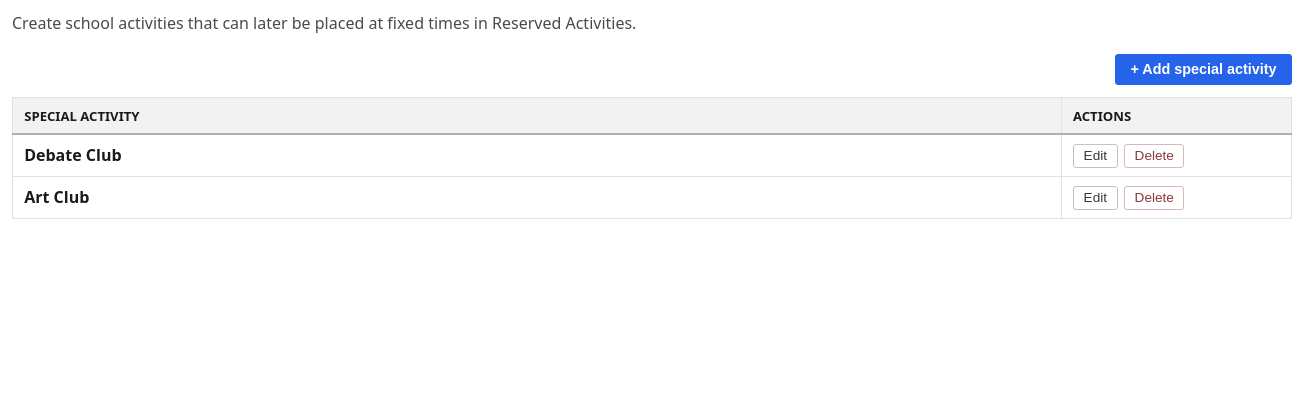
Test case: SpecialActivitiesPanel › sends the exact create request body, then collapses and refetches on success
expect the column heading "Debate Club" is shown: met, box [12,134,1061,177]
Click the button "+ Add special activity".
click(1204, 69)  # box [1115,54,1292,85]
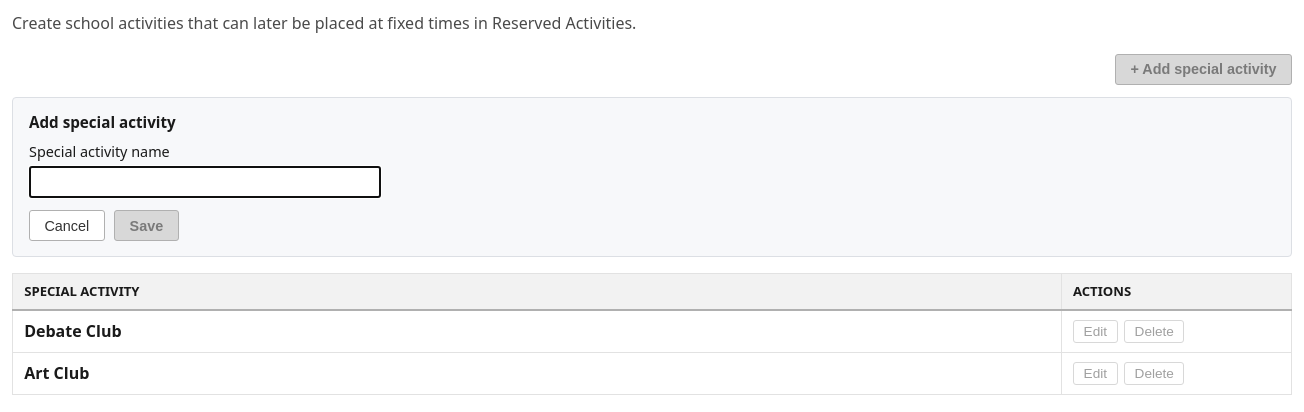
Type "Chess Club" into the field labelled "Special activity name".
click(205, 182); type("Chess Club")  # box [29,166,381,198]
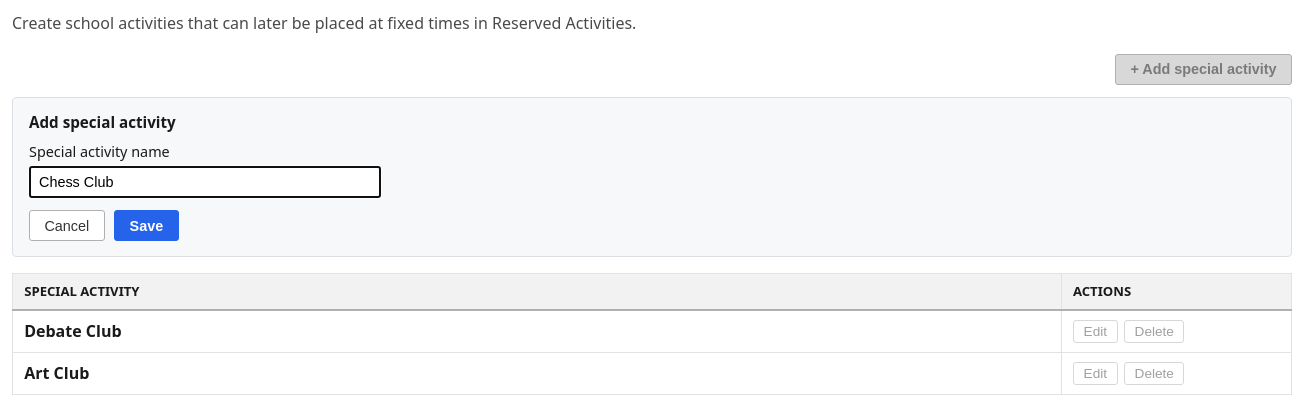
Click the button "Save".
click(146, 226)  # box [114,210,179,241]
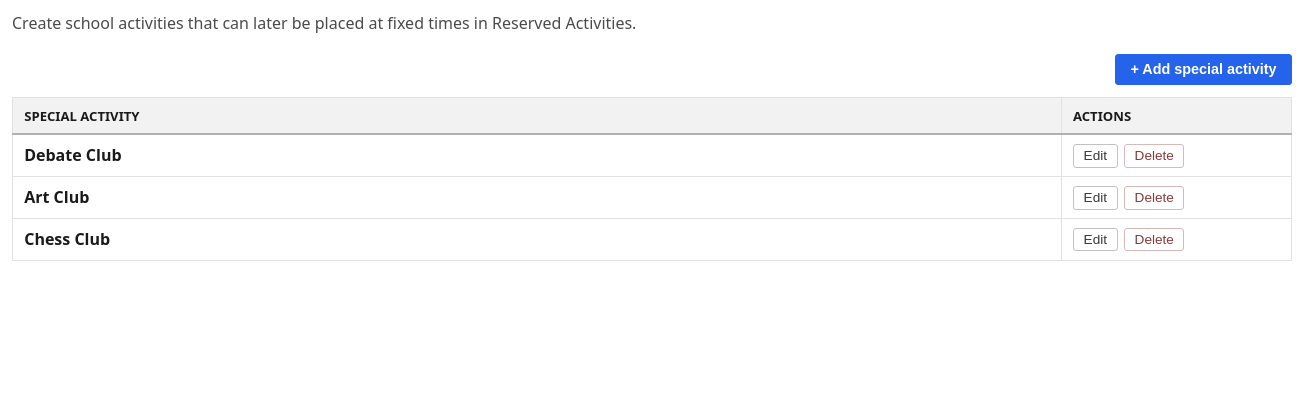
expect the column heading "Chess Club" is shown: met, box [12,219,1061,261]
expect the label labelled "Special activity name" is gone: met
